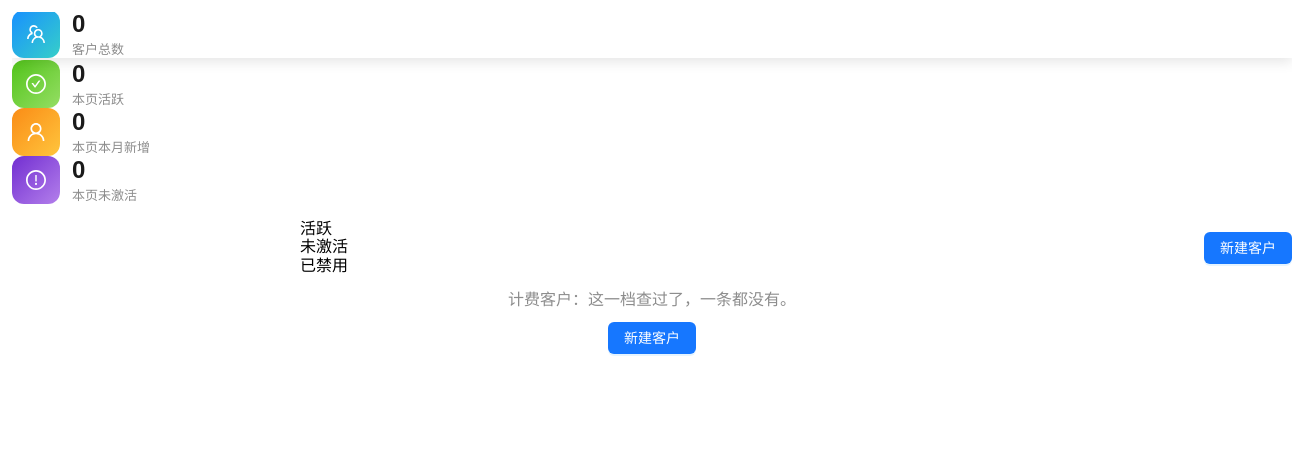
Test: 新建客户的那条路真的能走到 › 空态那颗新建按钮点了会打开新建表单
Click the button with class "create-on-empty": point(652, 338) [608,322,696,354]
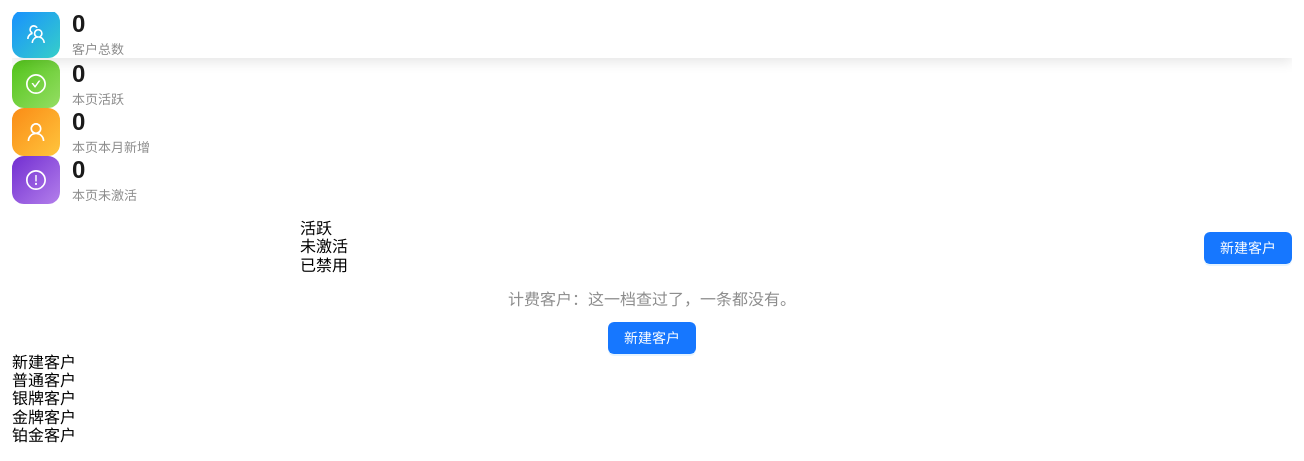
Now the element with class "modal-stub" is shown, box [12,354,76,444]
Now the text with class "modal-title" reads "新建客户", box [12,354,76,371]
